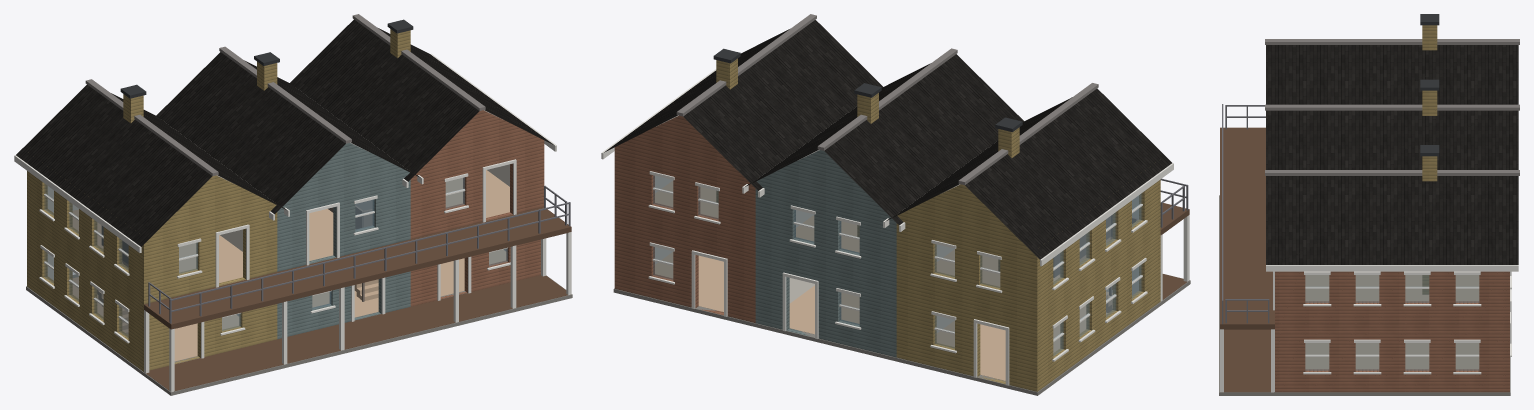
The model's file is mh-worker-row.towns-v1.lod0.glb.
3 renders of one model, left to right at view 1: azimuth 30°, elevation 25°; view 2: azimuth 150°, elevation 25°; view 3: azimuth 270°, elevation 25°, orthographic. The views are drawn at different scales.
Parts seen in each view (by area): view 1: mh-worker-row; view 2: mh-worker-row; view 3: mh-worker-row.
Part boxes in pixels (x1=…): mh-worker-row: x1=14, y1=14, x2=572, y2=395; mh-worker-row: x1=601, y1=14, x2=1190, y2=395; mh-worker-row: x1=1219, y1=14, x2=1519, y2=395.
Size of the model in its own units: 19.38 by 9.44 by 12.03.
6 materials, 2 textured.
